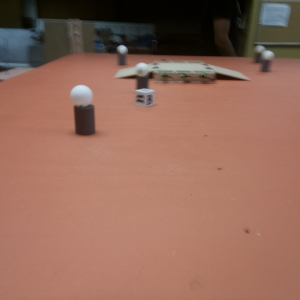blockB: (135, 88, 156, 108)
corner: (67, 17, 85, 54)
obstacle: (69, 82, 98, 136), (137, 62, 149, 87), (262, 50, 273, 73), (117, 45, 129, 65), (254, 44, 261, 63)
side: (154, 70, 213, 83)
slope: (214, 67, 252, 82)
